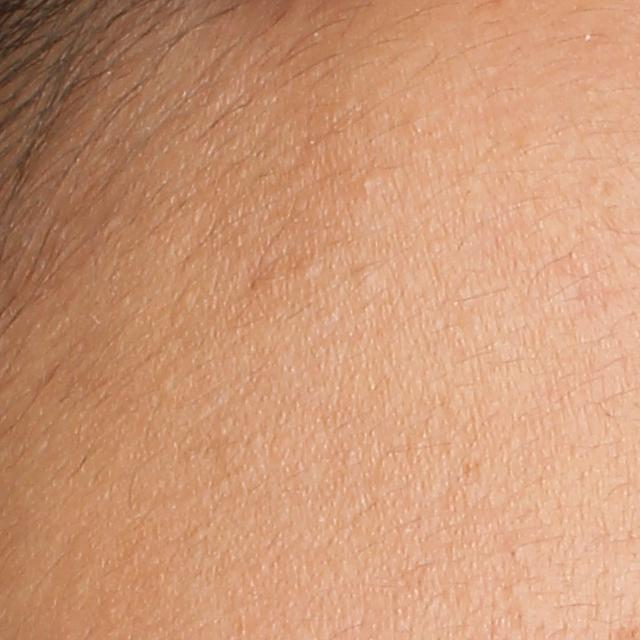comedo: (353, 261, 380, 293), (299, 251, 327, 278), (356, 171, 381, 195)
